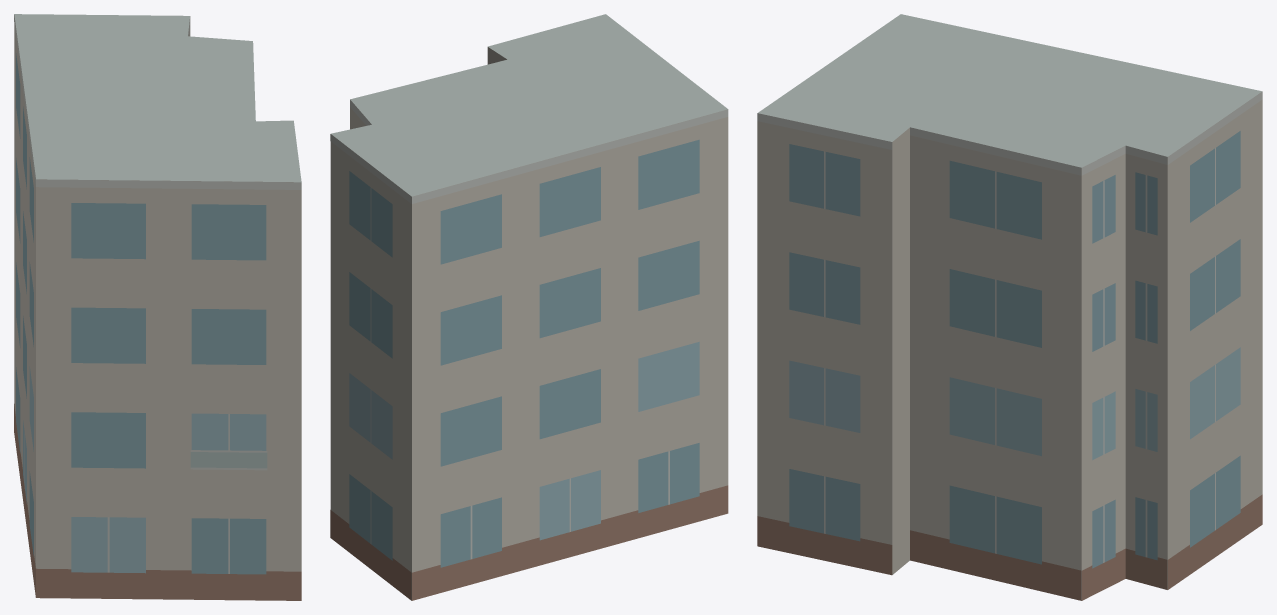
The model's file is survey-upis-33036454.glb.
3 views of the same model, side by side, from view 1: azimuth 30°, elevation 25°; view 2: azimuth 150°, elevation 25°; view 3: azimuth 270°, elevation 25° (orthographic). The views are drawn at different scales.
Parts seen in each view (by area): view 1: survey-upis-33036454.tmp; view 2: survey-upis-33036454.tmp; view 3: survey-upis-33036454.tmp.
Part boxes in pixels (x1,y1,x2,y2): survey-upis-33036454.tmp: (14, 14, 301, 600); survey-upis-33036454.tmp: (330, 14, 728, 600); survey-upis-33036454.tmp: (757, 14, 1262, 600).
Bounding box in the file's own units: 9.98 × 13.1 × 13.86.
